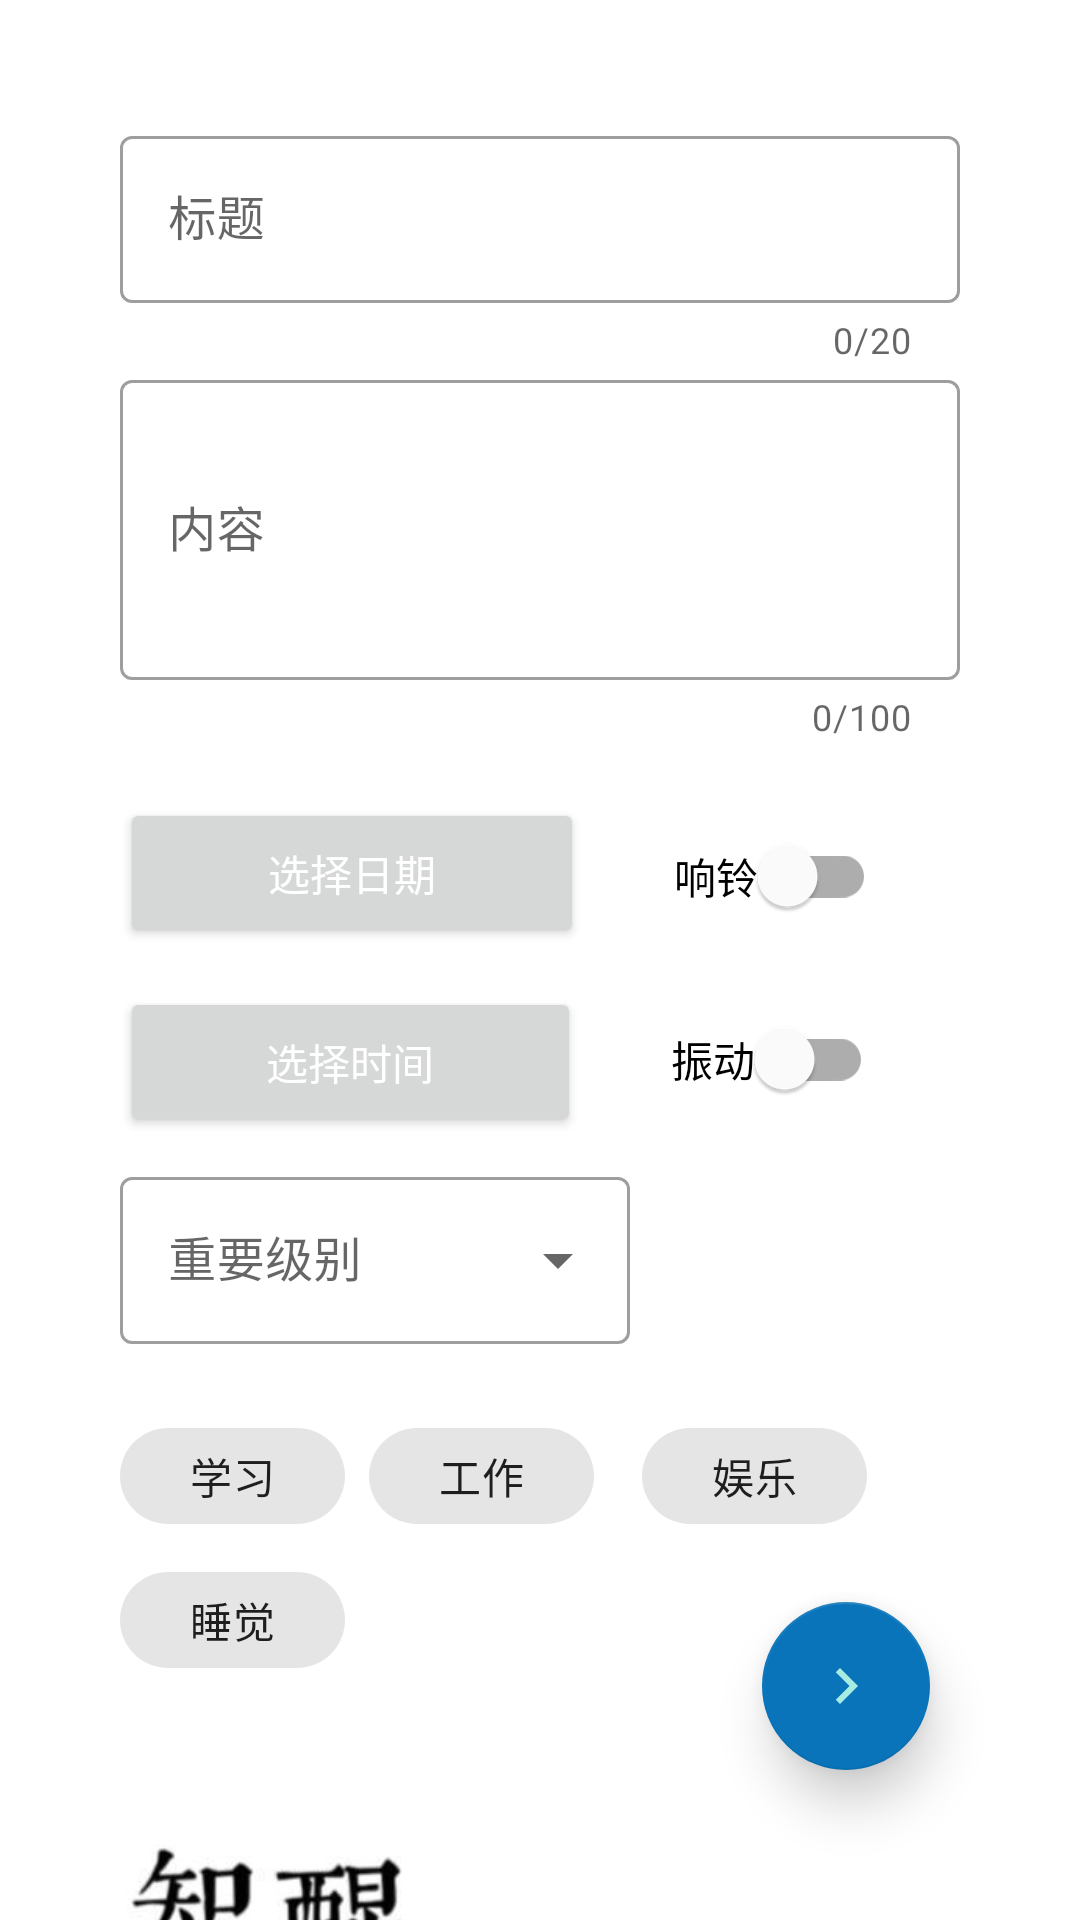

Named icons in this screenshot (1080px×1920px) and their bounding boxes, (x1, y1, x2, y2):
chevron right: (762, 1602, 930, 1770)
